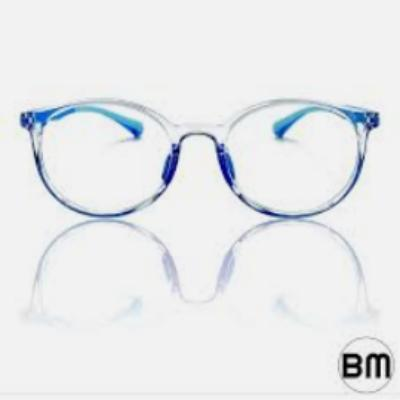glasses: (16, 91, 386, 232)
